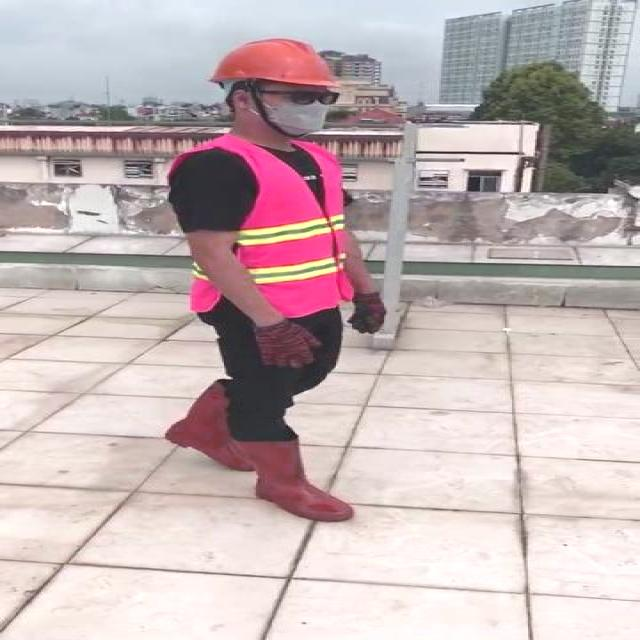boots: (240, 440, 354, 522), (164, 378, 240, 465)
face_mask: (262, 85, 342, 135)
glasses: (279, 86, 343, 110)
hand_glove: (254, 321, 322, 367), (348, 295, 388, 334)
head_helmet: (205, 34, 346, 90)
person: (153, 36, 395, 530)
vest: (190, 140, 348, 315)
